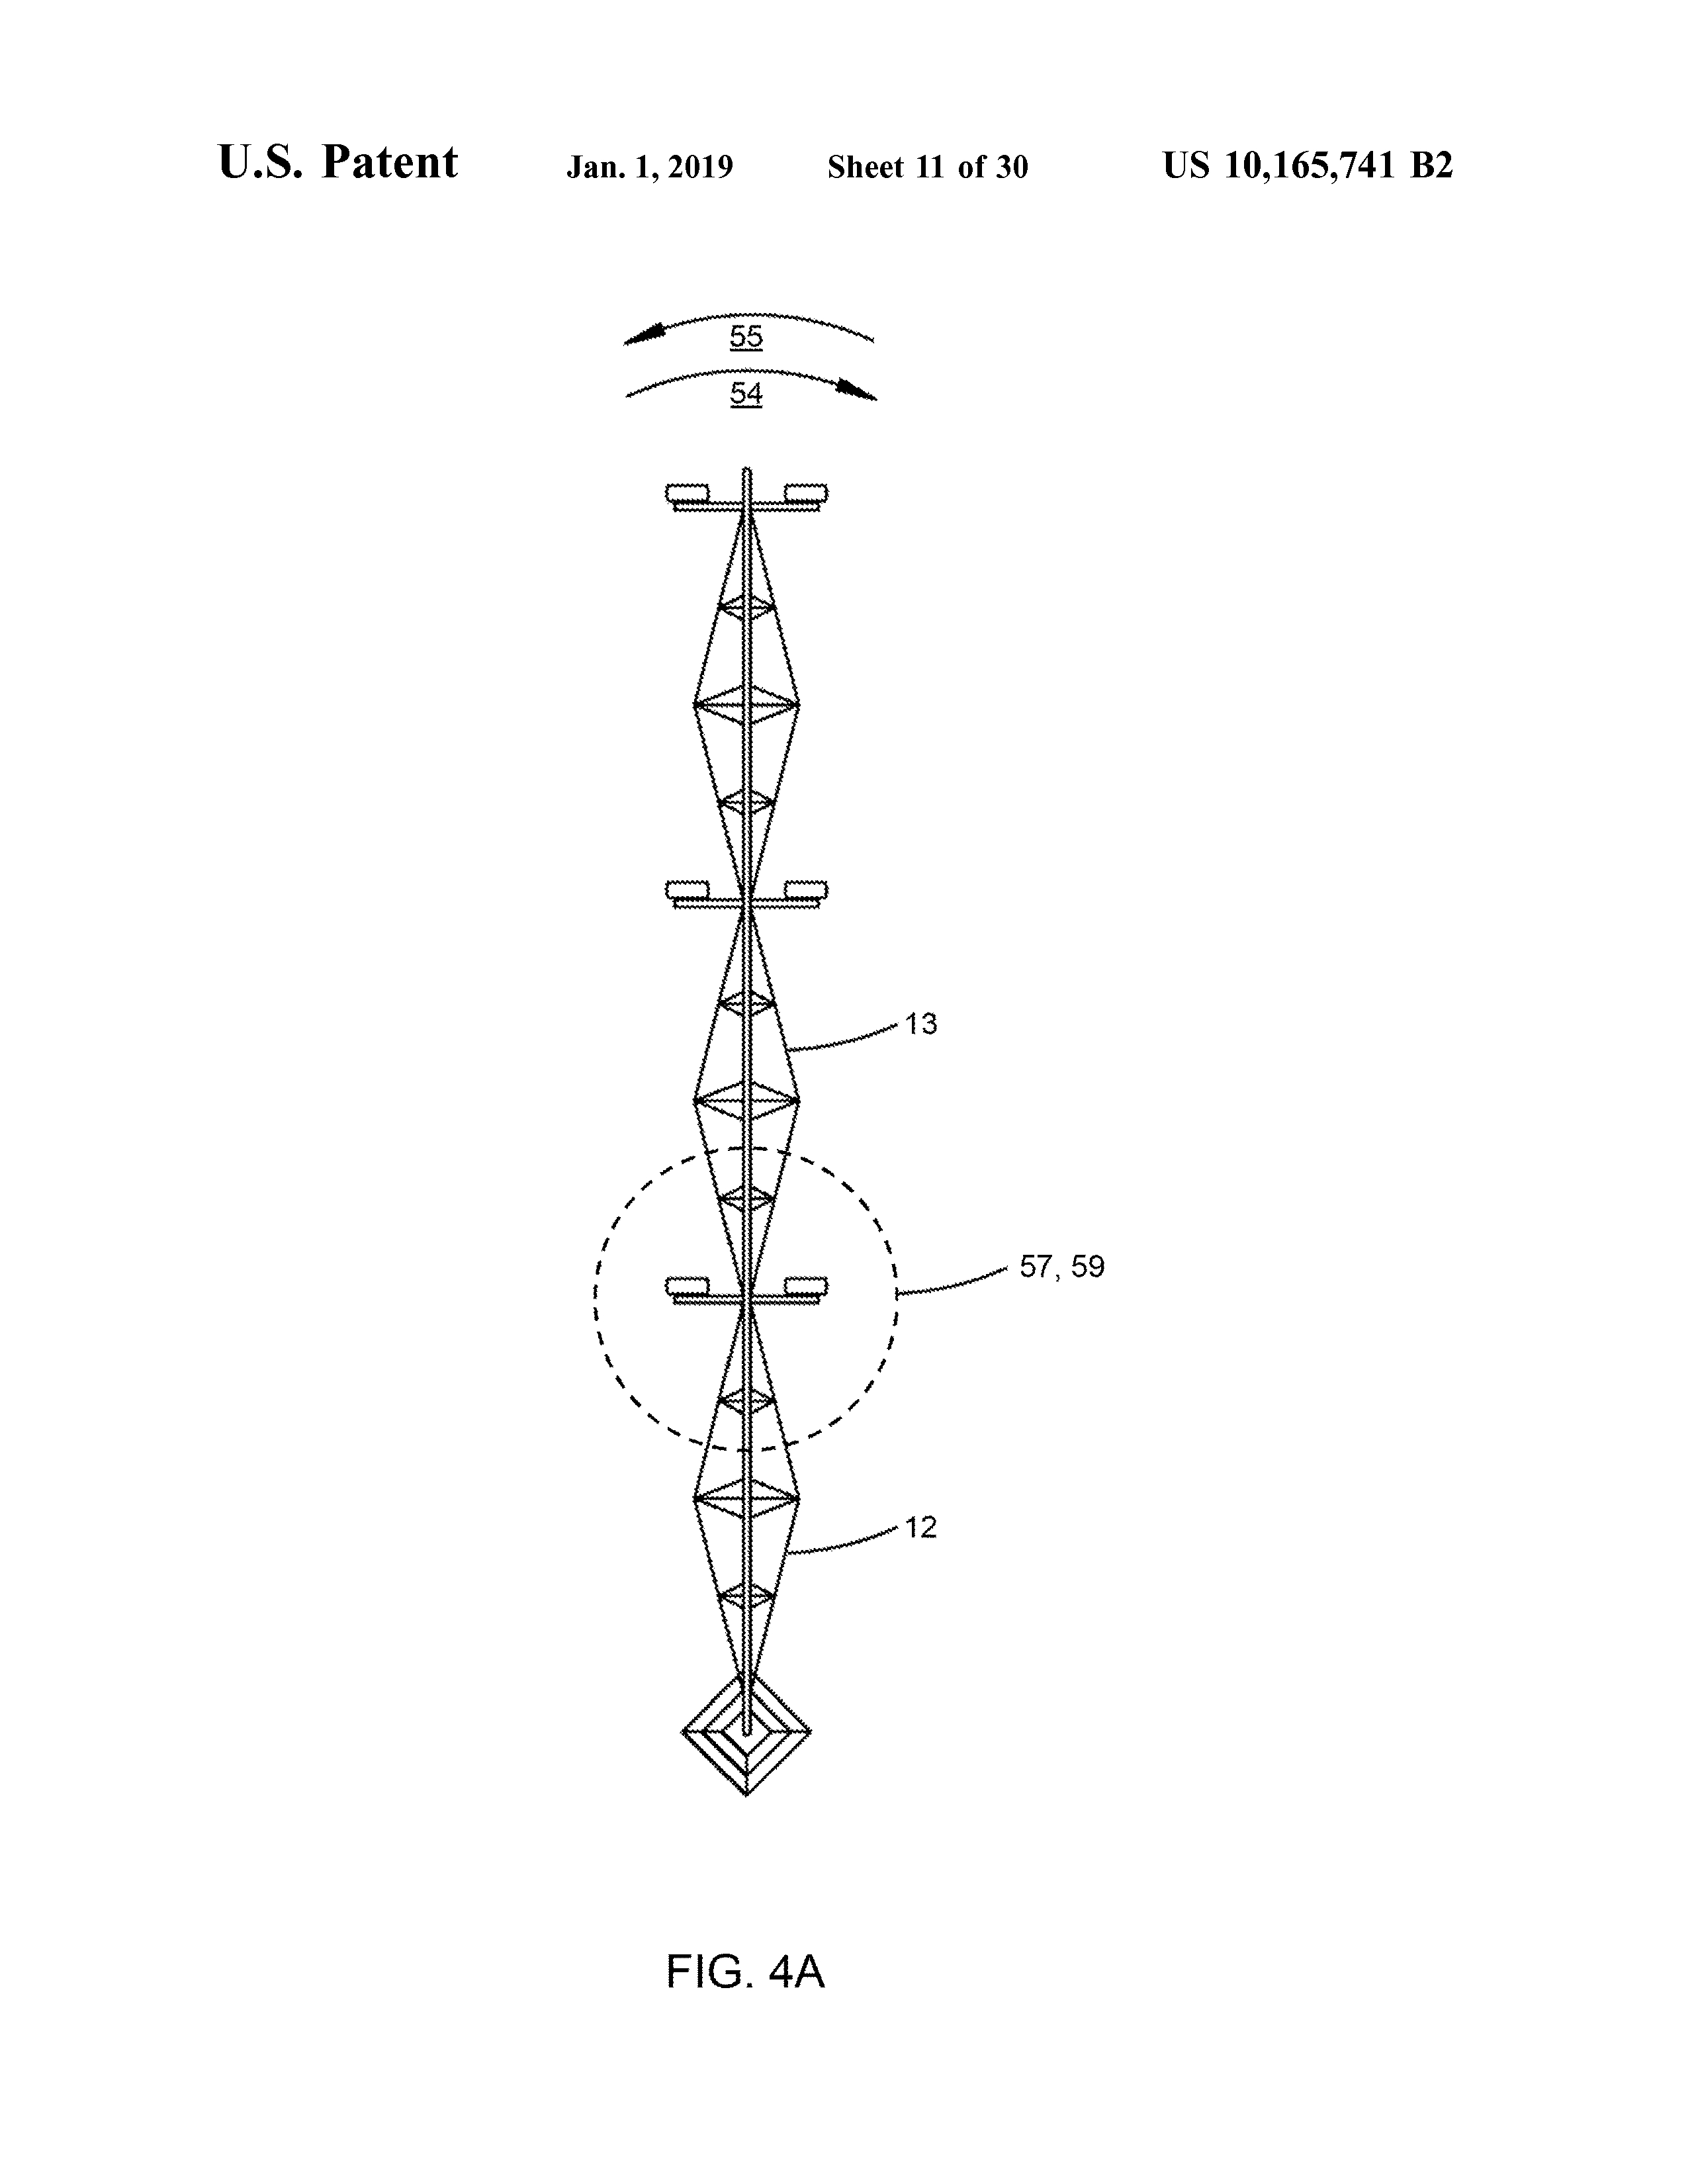patent image: (509, 223, 1207, 2049)
